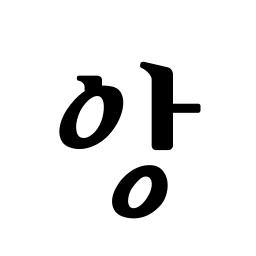Gaji: (143, 92, 185, 128)
